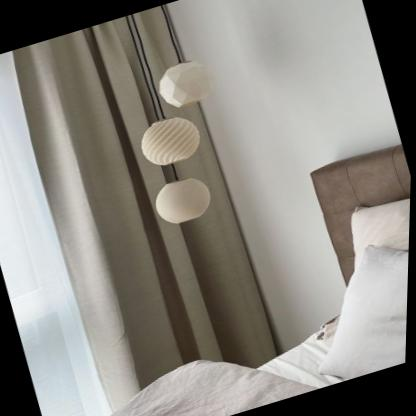Bed: (112, 144, 412, 416)
Curtains: (0, 0, 296, 416)
